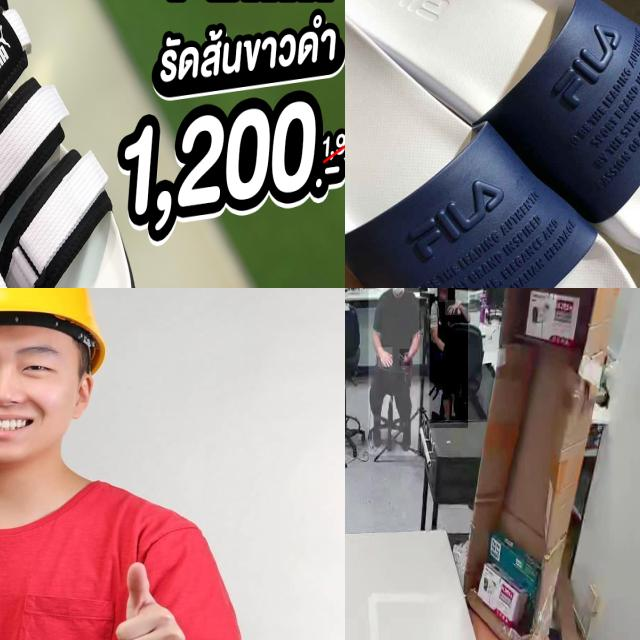No_Ear-Protection: (56, 363, 107, 427)
No_Glasses: (0, 339, 69, 389)
Sandals: (345, 0, 640, 288), (0, 0, 148, 288)
face_nomask: (438, 288, 448, 302)
hand_noglove: (378, 347, 393, 368), (445, 300, 461, 316), (400, 349, 410, 367)
person: (368, 288, 419, 456), (429, 288, 468, 428)
shoes: (368, 412, 384, 451), (397, 412, 412, 453)
